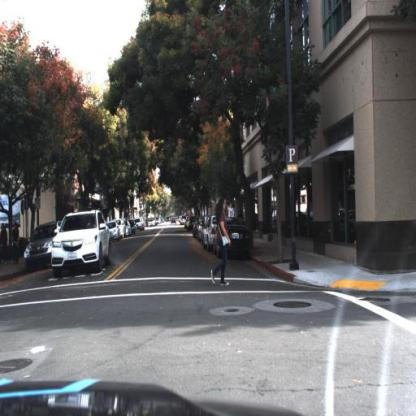car: (51, 208, 112, 281), (21, 220, 53, 274), (215, 214, 254, 257), (201, 214, 225, 256), (108, 217, 122, 246)
pedestrian: (207, 194, 235, 288), (10, 221, 20, 263)
